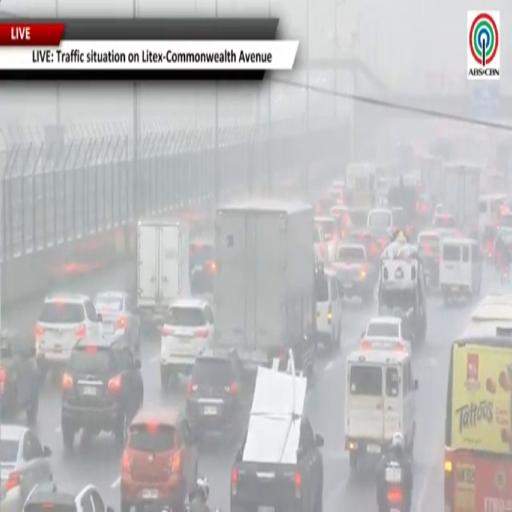bus: (445, 316, 511, 511)
car: (230, 367, 323, 511), (61, 339, 143, 452), (120, 408, 197, 511), (35, 293, 102, 376), (186, 351, 244, 437), (161, 298, 214, 390), (0, 425, 52, 511), (0, 331, 39, 425), (94, 292, 140, 349), (23, 483, 113, 511), (333, 244, 375, 303), (315, 264, 342, 351), (189, 239, 217, 295), (345, 230, 389, 261), (418, 230, 441, 289), (362, 316, 410, 341), (314, 216, 339, 261), (330, 204, 350, 239), (312, 226, 328, 262), (348, 207, 368, 230), (433, 213, 458, 230)
motorcycle: (385, 461, 404, 511), (501, 265, 510, 283)
truck: (214, 199, 315, 375), (137, 220, 190, 325), (442, 163, 481, 234), (346, 163, 377, 210), (420, 155, 443, 203)
